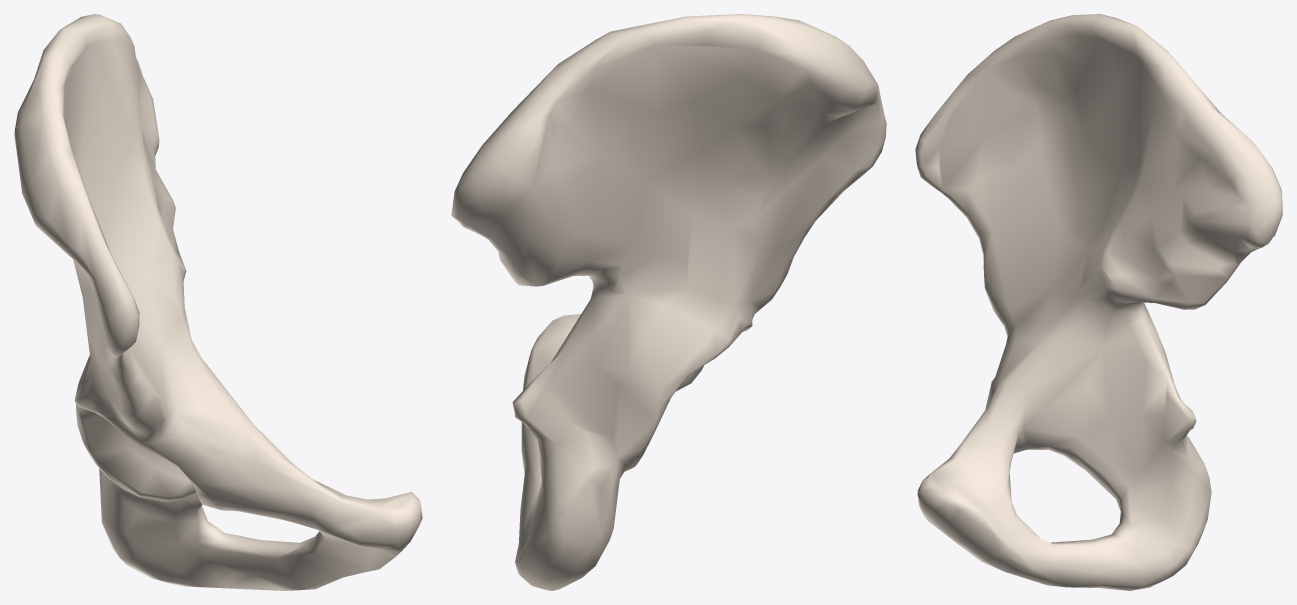
File: right_coxal.glb
The picture shows the model from 3 angles, left to right: view 1: azimuth 30°, elevation 25°; view 2: azimuth 150°, elevation 25°; view 3: azimuth 270°, elevation 25°; orthographic projection. The views are drawn at different scales.
Visible parts, largest first — view 1: Hip bone.r; view 2: Hip bone.r; view 3: Hip bone.r.
Boxes of the visible parts, bbox=[...] form: Hip bone.r: bbox=[14, 14, 422, 590]; Hip bone.r: bbox=[451, 14, 886, 590]; Hip bone.r: bbox=[915, 14, 1282, 590].
Bounding box in the file's own units: 0.1316 × 0.2133 × 0.1414.
